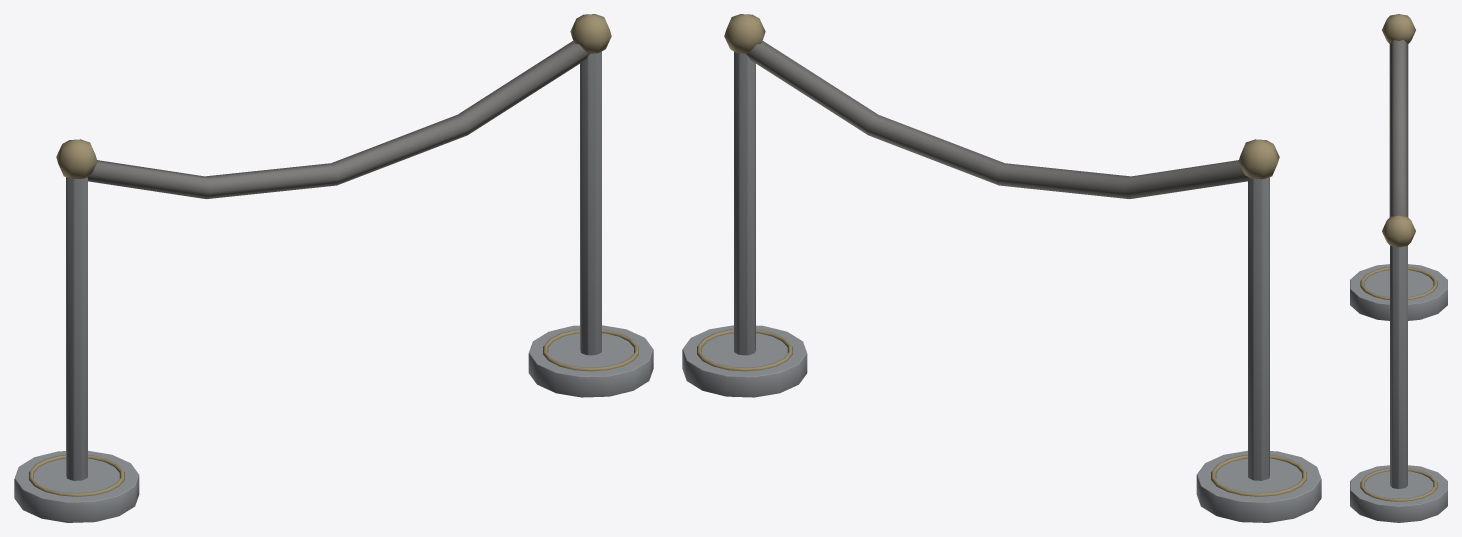
Rendered from rope_stand.glb.
3 views of the same model, side by side, from view 1: azimuth 30°, elevation 25°; view 2: azimuth 150°, elevation 25°; view 3: azimuth 270°, elevation 25° (orthographic). The views are drawn at different scales.
Size of the model in its own units: 2.18 by 1.2 by 0.3705.
